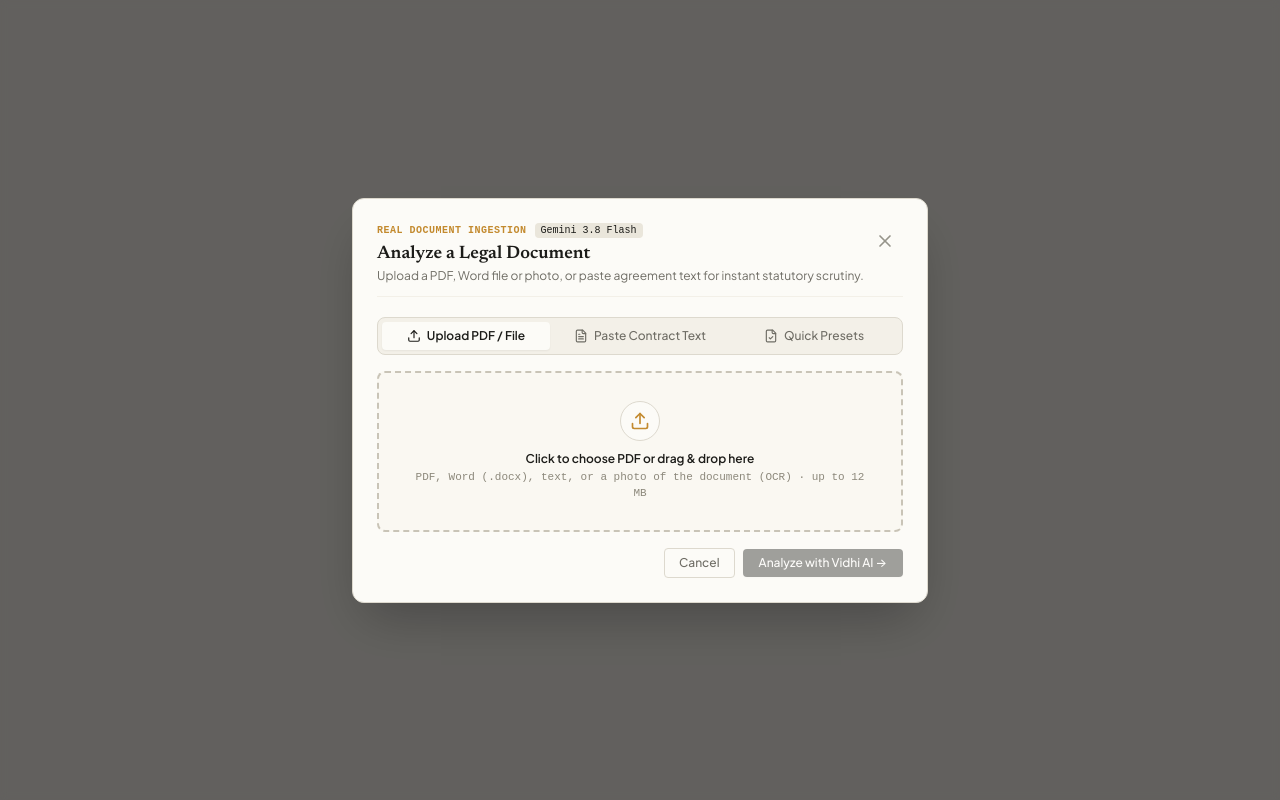
it: UploadModal › shows an alert when the file is too large for the server
The width and height of the screenshot is (1280, 800).
Click the tab "Paste Contract Text" at (640,336), box left=556, top=322, right=724, bottom=350
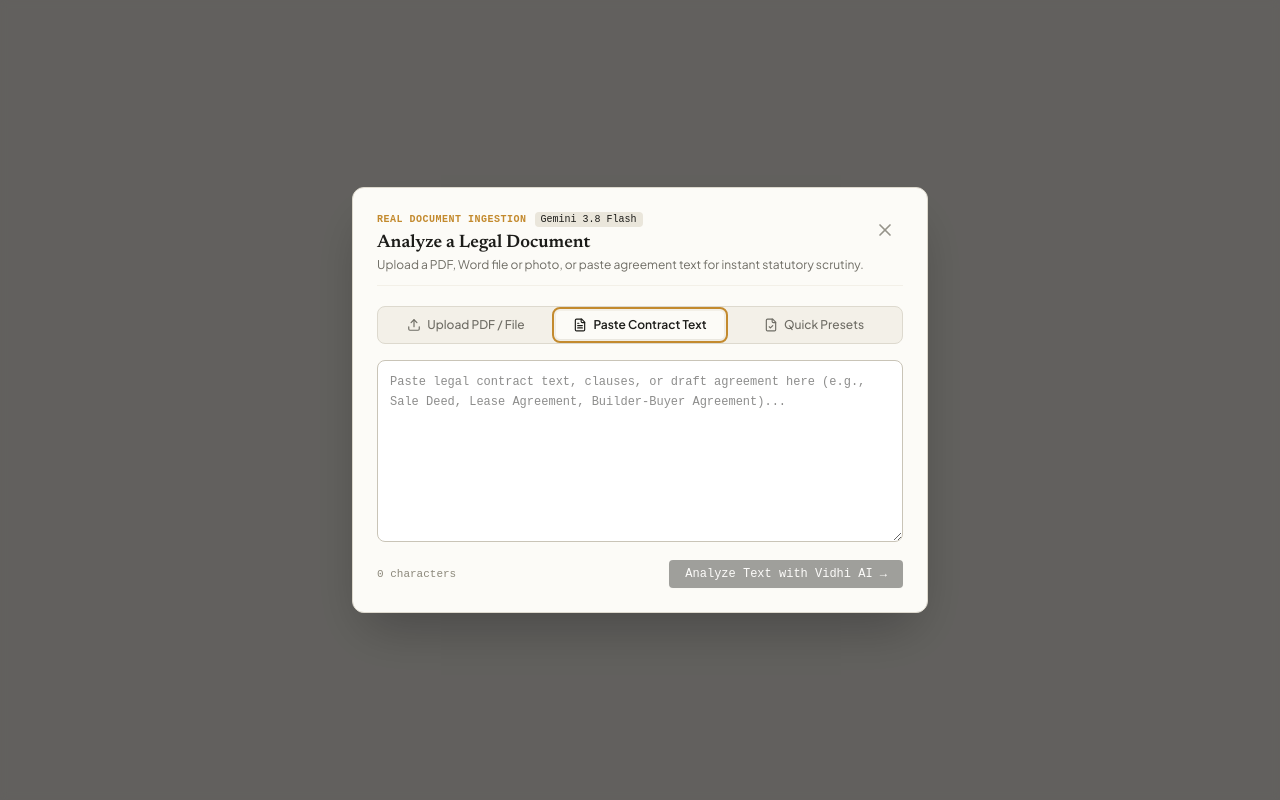
Replace the text in the text box named "Paste contract text" with "x" at (640,451), box left=377, top=360, right=903, bottom=542
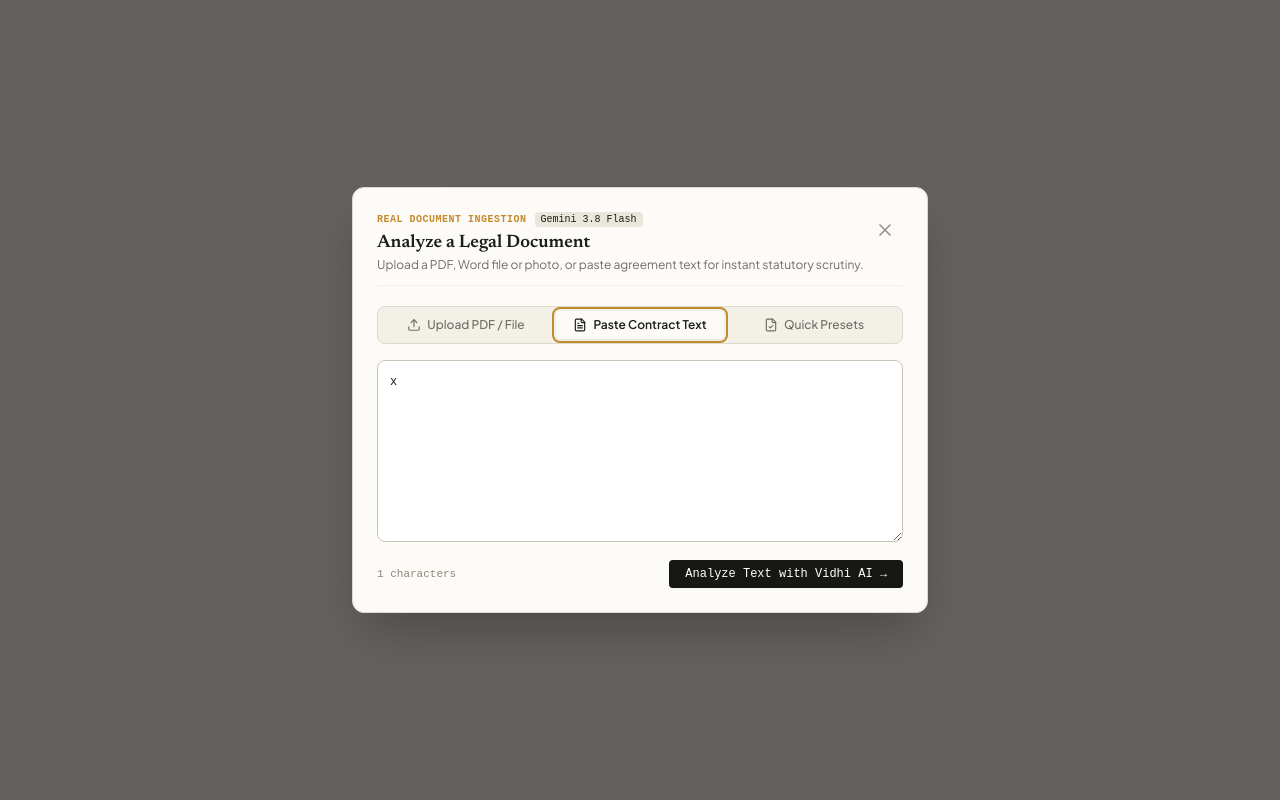
Click the button "Analyze Text with Vidhi AI →" at (786,574), box left=669, top=560, right=903, bottom=588
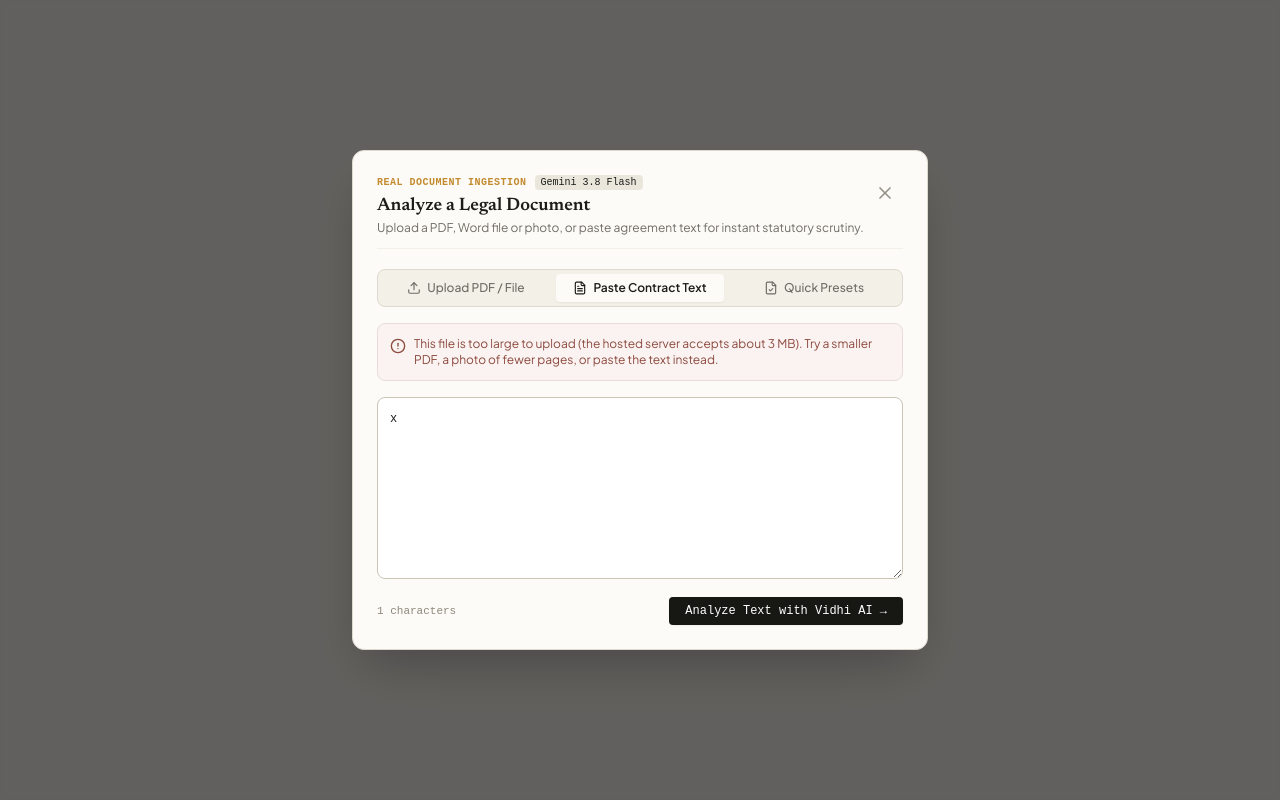
Check: the message shows "too large to upload", box left=414, top=336, right=872, bottom=367
